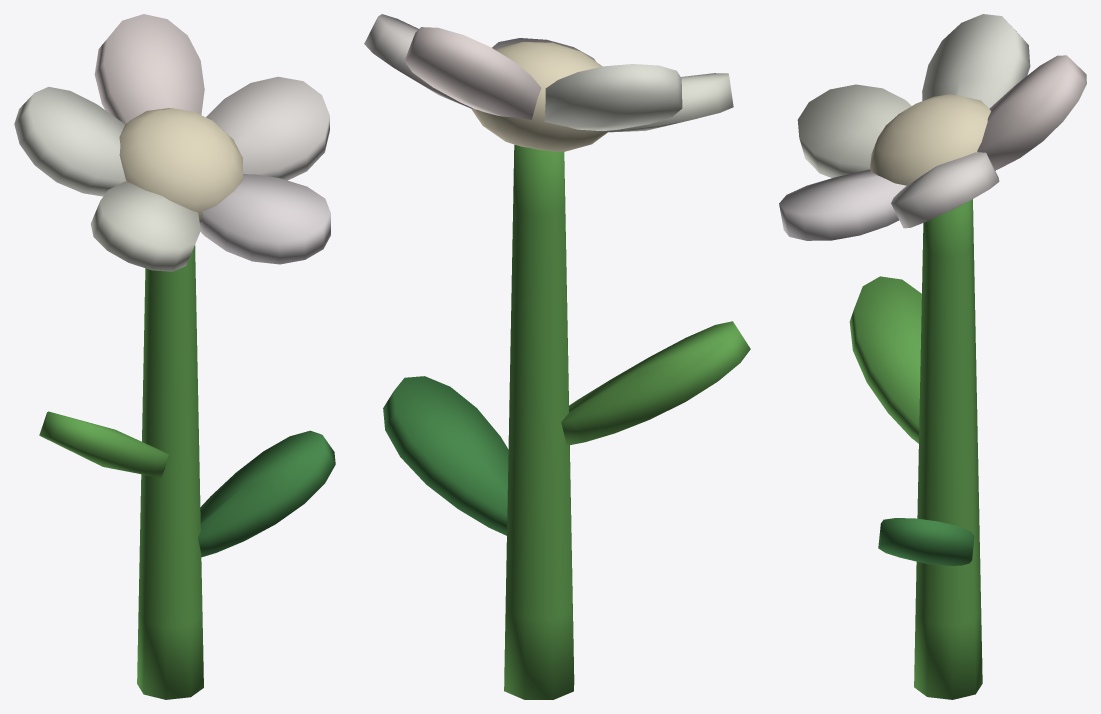
File: W4_FloraRing_9_9.fbx
3 views of the same model, side by side, from view 1: azimuth 30°, elevation 25°; view 2: azimuth 150°, elevation 25°; view 3: azimuth 270°, elevation 25° (orthographic). The views are drawn at different scales.
Visible parts, largest first — view 1: W4_FloraRing_9_9; view 2: W4_FloraRing_9_9; view 3: W4_FloraRing_9_9.
Boxes of the visible parts, x1,y1,x2,y2 form: W4_FloraRing_9_9: (14, 14, 335, 699); W4_FloraRing_9_9: (364, 14, 750, 699); W4_FloraRing_9_9: (779, 14, 1086, 699).
Size of the model in its own units: 0.0894 by 0.1755 by 0.0759.
